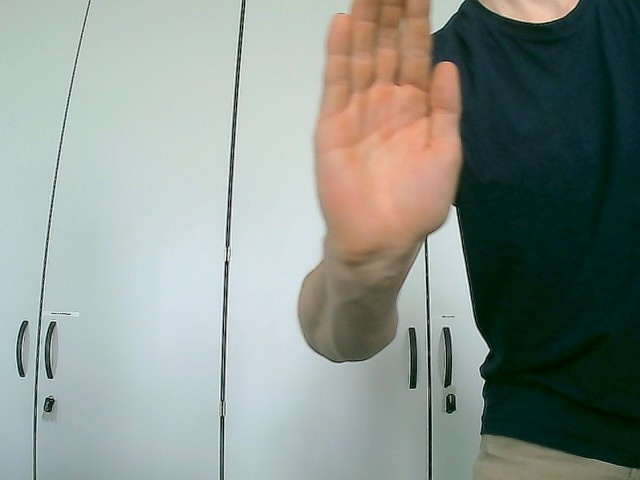stop: (311, 0, 465, 261)
